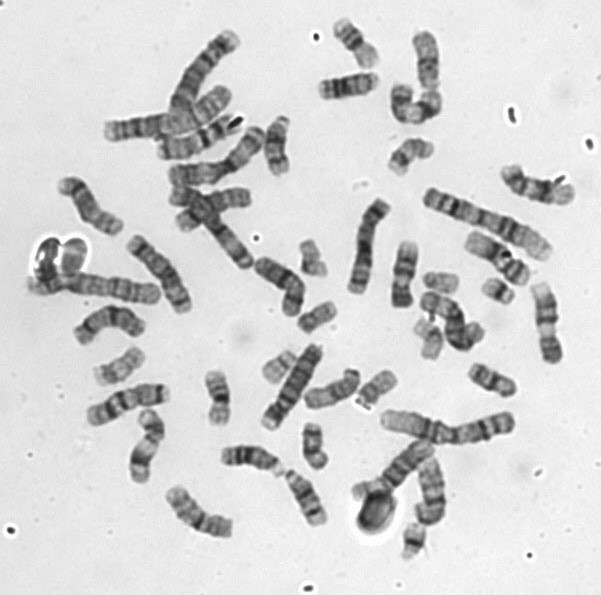chromosomes: (419, 185, 559, 270), (99, 78, 237, 148), (160, 178, 254, 272), (379, 22, 454, 130), (167, 21, 248, 120), (167, 115, 274, 188), (254, 340, 331, 436), (350, 428, 441, 503), (14, 264, 166, 308), (339, 192, 402, 297), (371, 406, 528, 447), (127, 231, 196, 322), (493, 154, 594, 212), (48, 171, 127, 242), (155, 109, 247, 169), (171, 180, 264, 239), (77, 375, 173, 432), (413, 286, 488, 355), (455, 226, 537, 288), (163, 479, 243, 542), (293, 356, 375, 416), (525, 275, 574, 374), (70, 299, 152, 354), (119, 400, 170, 486), (374, 129, 460, 180), (322, 9, 390, 73), (189, 360, 241, 434), (247, 255, 307, 318), (308, 61, 385, 110), (382, 233, 427, 310), (87, 341, 151, 394), (282, 469, 332, 533), (213, 436, 286, 479), (349, 363, 409, 415), (260, 108, 303, 175), (413, 458, 449, 538), (462, 355, 523, 400), (404, 315, 452, 369), (300, 415, 338, 475), (477, 272, 527, 315), (254, 340, 302, 383), (289, 232, 332, 277), (417, 265, 473, 299), (294, 301, 342, 339), (61, 228, 91, 285), (393, 524, 430, 565)
